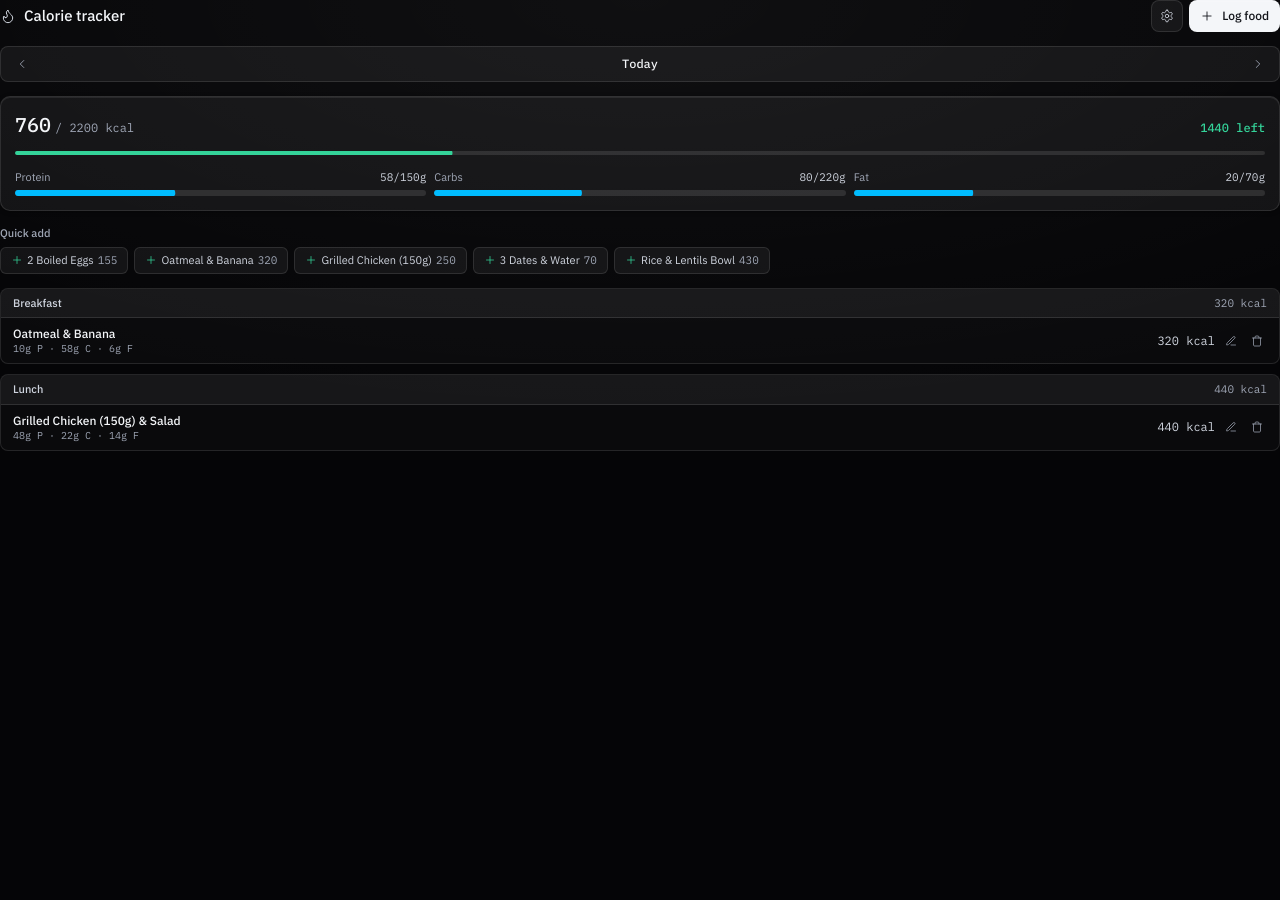
Test: Frontend Features & Bug Fixes › logs quick-add preset calories, updates macro totals, and confirms delete
This screenshot has width=1280, height=900.
Expected: the text "760" is shown, [15,111,51,138]
# Quick-add 2 Boiled Eggs (155 kcal)
Click the button "2 Boiled Eggs 155".
click(64, 260)  # box [0,247,128,274]
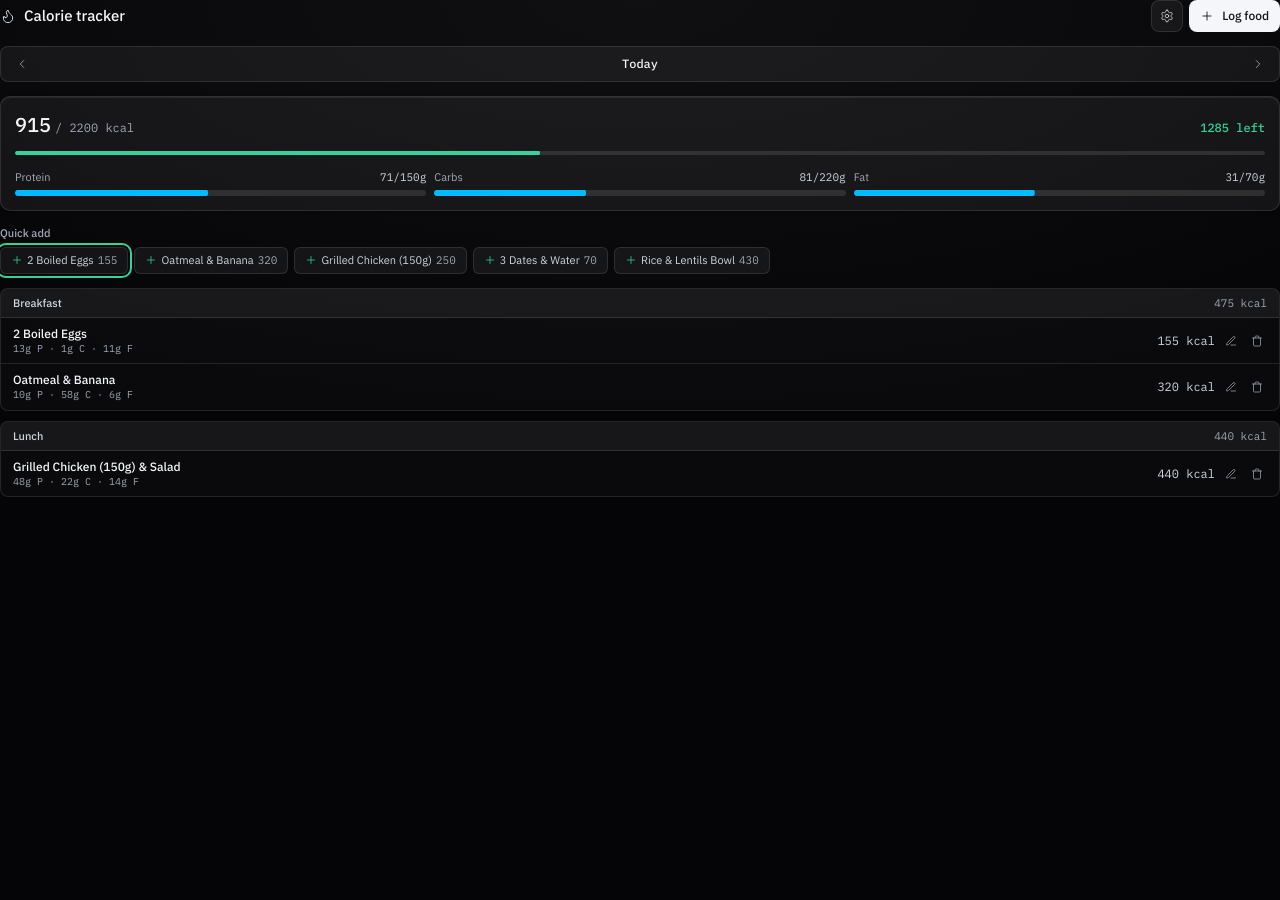
Now the text "915" is shown, box [15,111,51,138]
# Delete requires confirmation
Click the button named "Delete 2 Boiled Eggs".
click(1257, 341)  # box [1247,331,1267,351]
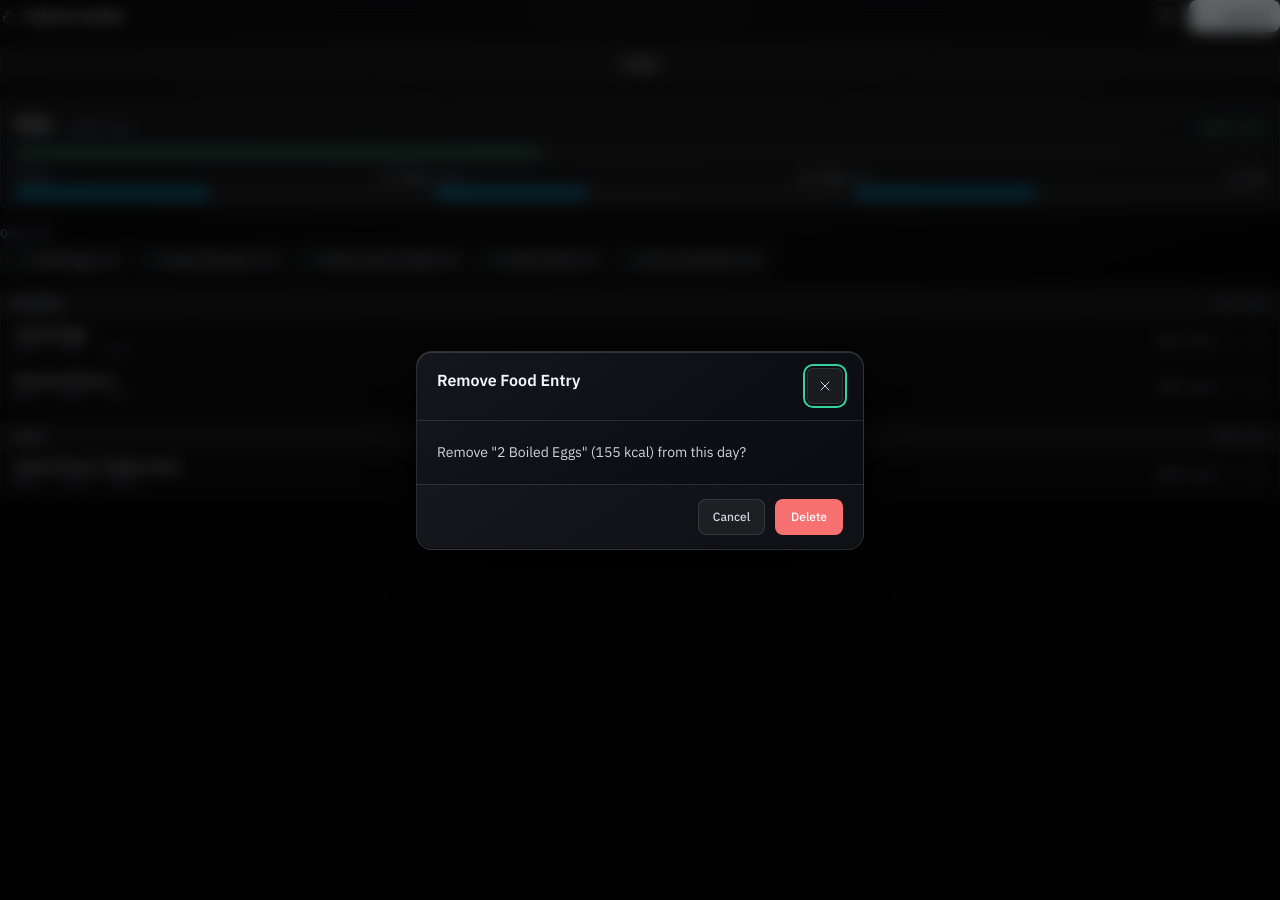
Now the heading "Remove Food Entry" is shown, box [437,368,580,392]
Click the button "Delete".
click(809, 516)  # box [775,498,843,534]
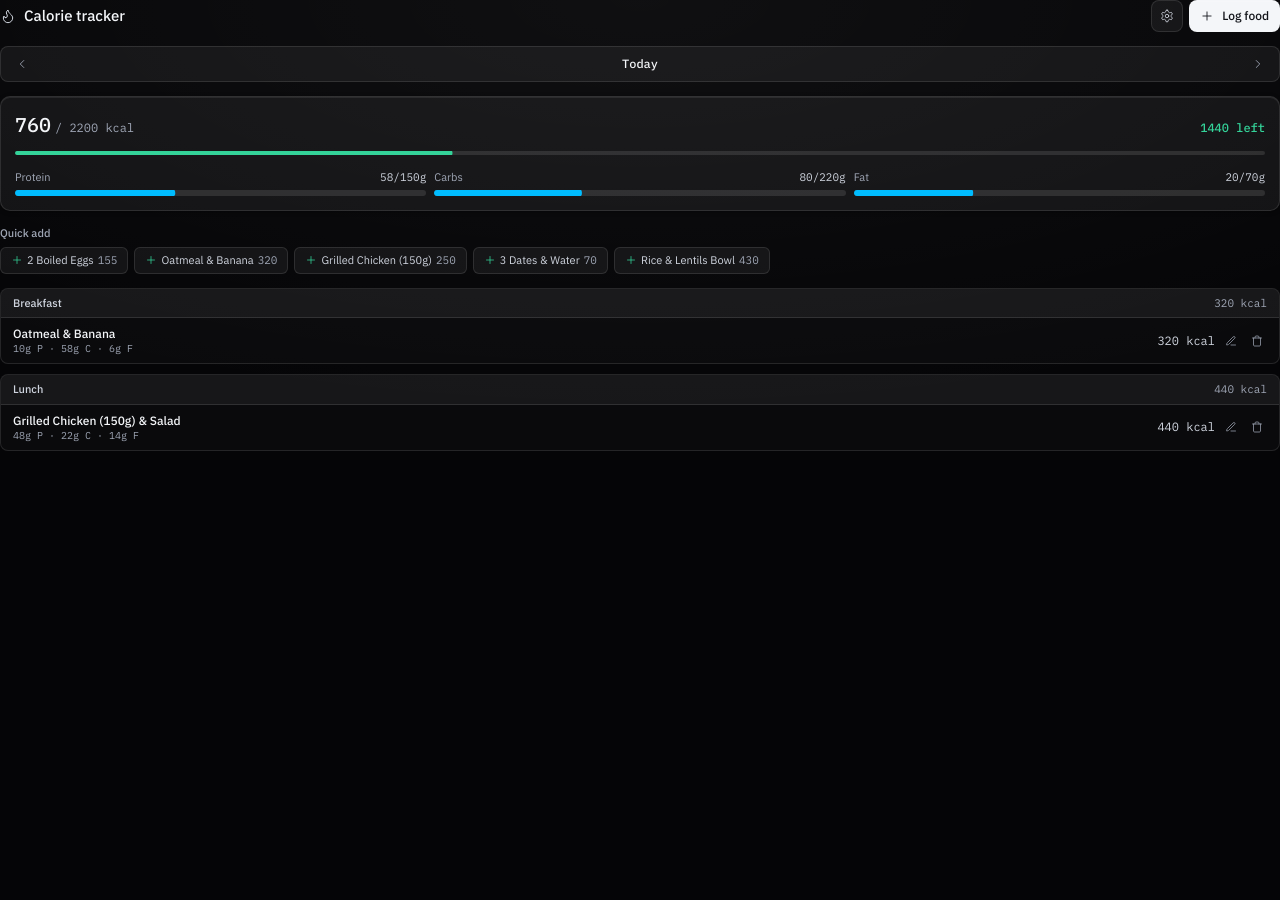
Now the text "760" is shown, box [15,111,51,138]
